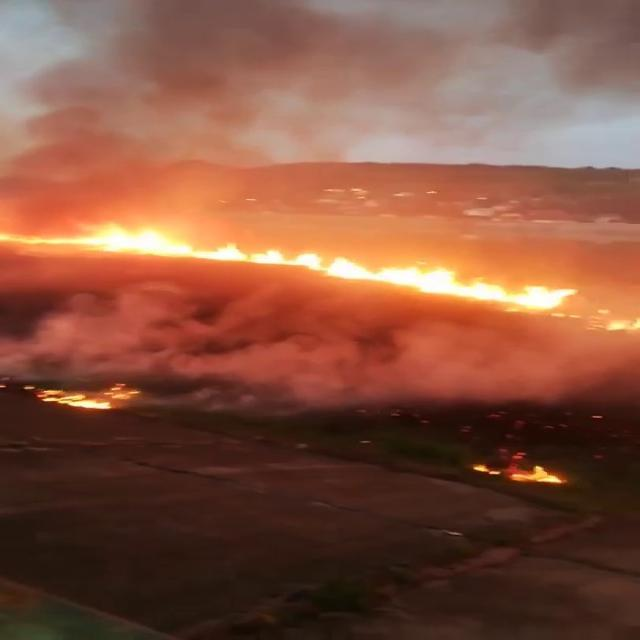Fire: (4, 212, 624, 318), (30, 381, 147, 413), (468, 452, 572, 486)
Smoke: (1, 0, 640, 182), (1, 284, 618, 416)
